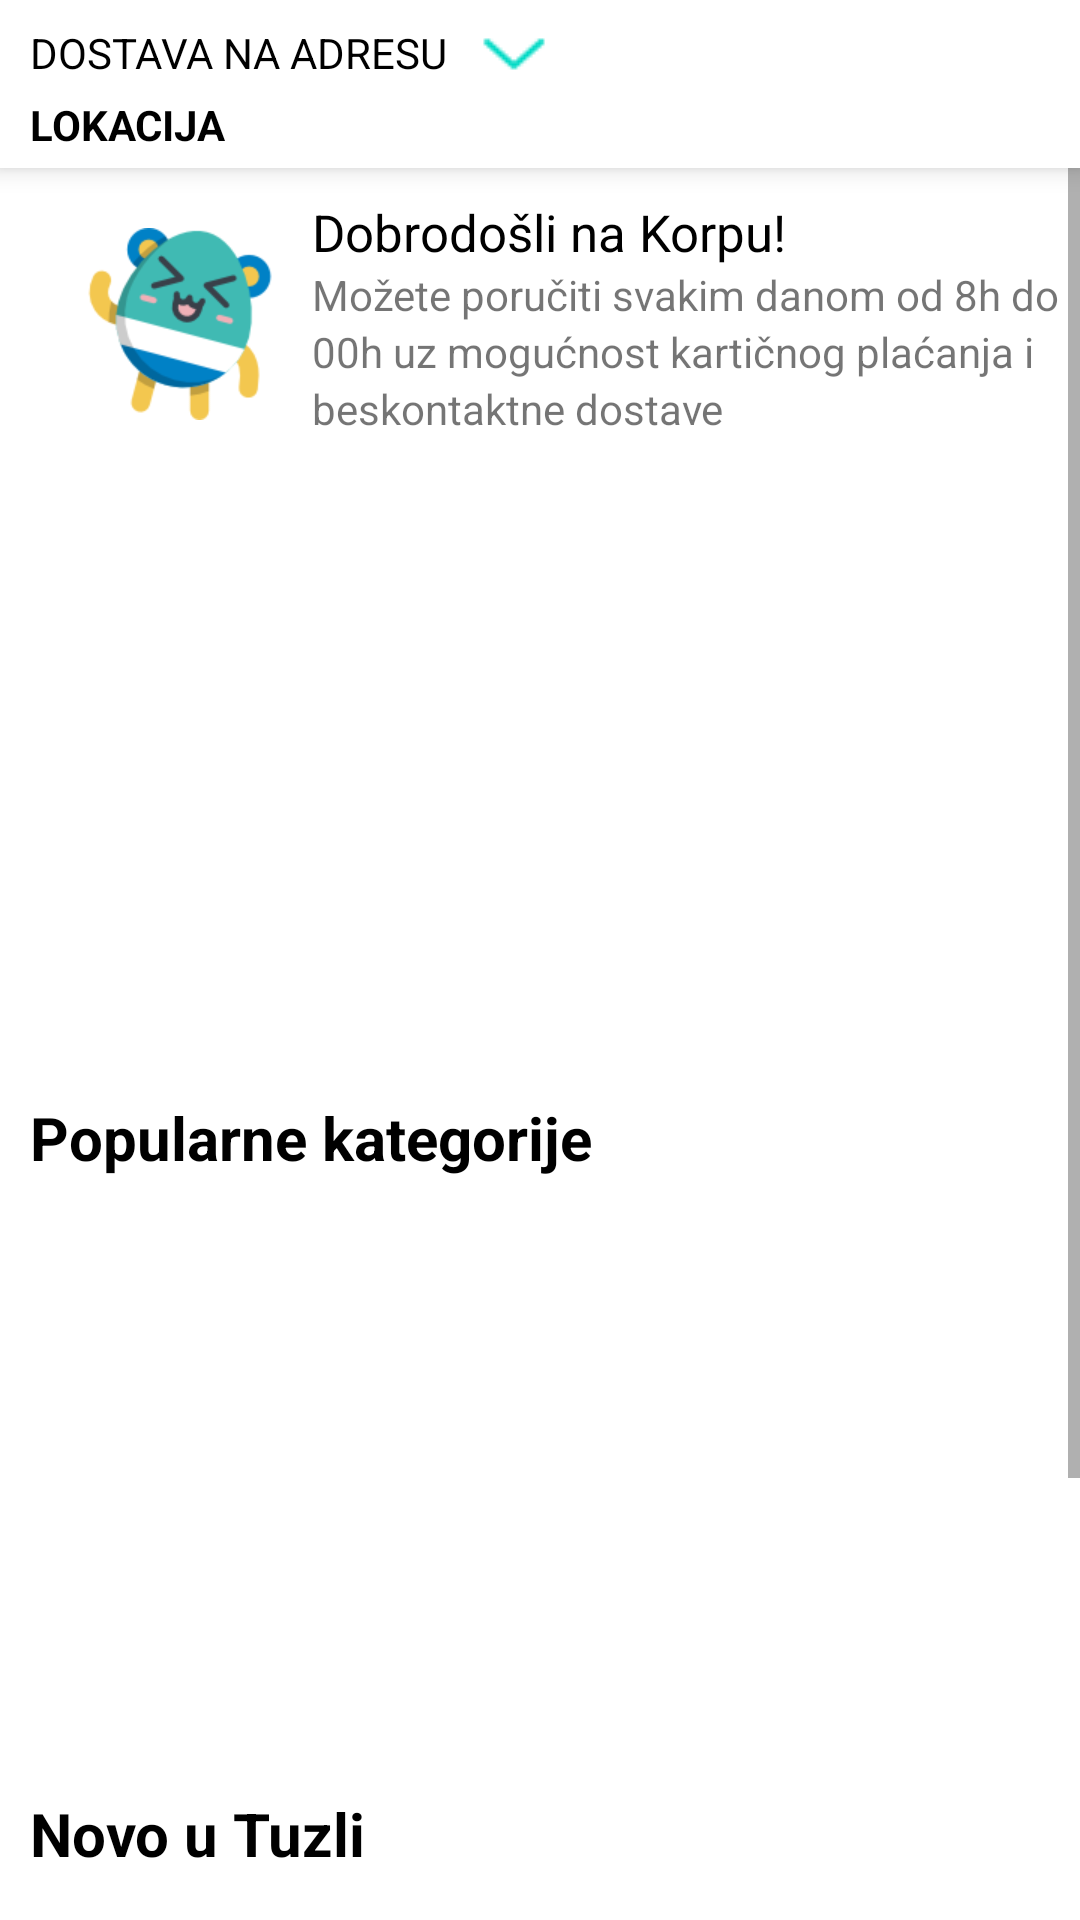

Icons on this 1080px x 1920px Android screen, each with its box as rect(x1, y1, x2, y2):
emoji: rect(88, 228, 272, 420)
